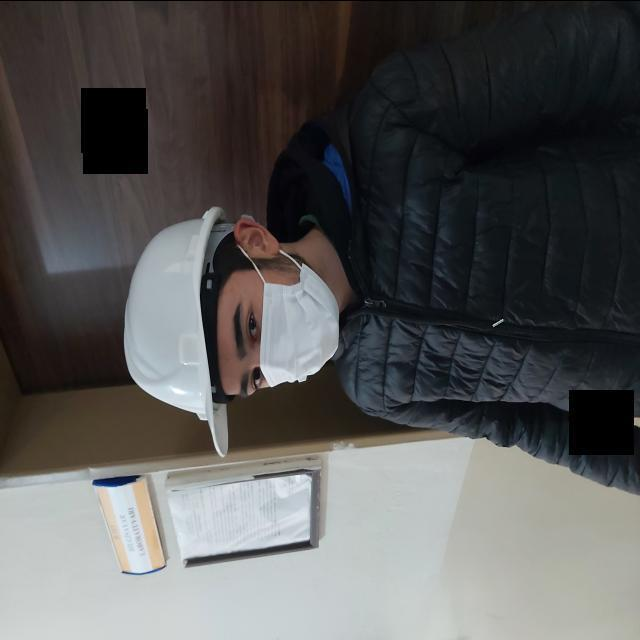helmet: (122, 205, 237, 456)
